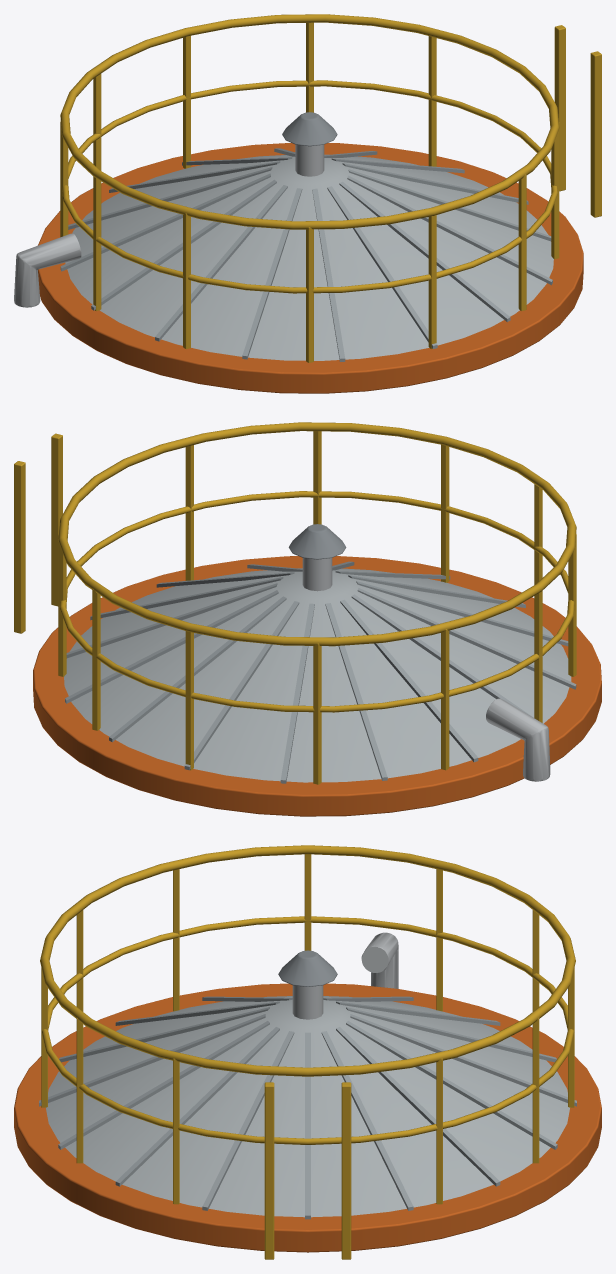
Rendered from fy_tankroof.glb.
The picture shows the model from 3 angles, top to bottom: view 1: azimuth 30°, elevation 25°; view 2: azimuth 150°, elevation 25°; view 3: azimuth 270°, elevation 25°; orthographic projection. The views are drawn at different scales.
Parts seen in each view (by area): view 1: cyl.001, cyl.002, ring.001, ring, pipe, block, block.013, cyl.003, bar.003, block.002, block.003, bar.008 (+21 smaller); view 2: cyl.001, cyl.002, ring.001, ring, pipe, block.013, block, cyl.003, bar.013, block.008, block.007, bar.009 (+21 smaller); view 3: cyl.001, cyl.002, ring.001, ring, block.013, block, pipe, cyl.003, bar.002, bar.014, bar.003, bar.013 (+21 smaller).
Boxes of the visible parts, <box> form: cyl.001: <box>65,154,553,360</box>; cyl.002: <box>38,143,583,393</box>; ring.001: <box>60,14,559,229</box>; ring: <box>62,80,557,293</box>; pipe: <box>14,233,81,307</box>; block: <box>590,51,601,217</box>; block.013: <box>554,25,565,191</box>; cyl.003: <box>282,112,337,146</box>; bar.003: <box>339,181,510,321</box>; block.002: <box>518,174,526,311</box>; block.003: <box>428,215,436,349</box>; bar.008: <box>91,179,276,310</box>; cyl.001: <box>64,568,571,782</box>; cyl.002: <box>33,556,601,816</box>; ring.001: <box>58,422,576,646</box>; ring: <box>59,491,574,712</box>; pipe: <box>486,698,550,781</box>; block.013: <box>14,461,25,633</box>; block: <box>51,433,62,606</box>; cyl.003: <box>288,524,346,559</box>; bar.013: <box>109,596,286,742</box>; block.008: <box>313,643,321,784</box>; block.007: <box>441,629,449,770</box>; bar.009: <box>340,599,478,762</box>; cyl.001: <box>46,996,569,1217</box>; cyl.002: <box>14,983,601,1252</box>; ring.001: <box>40,845,575,1076</box>; ring: <box>41,916,574,1144</box>; block.013: <box>341,1082,351,1259</box>; block: <box>264,1082,274,1259</box>; pipe: <box>361,932,398,988</box>; cyl.003: <box>278,950,337,986</box>; bar.002: <box>115,1027,279,1186</box>; bar.014: <box>336,1027,500,1186</box>; bar.003: <box>58,1021,269,1149</box>; bar.013: <box>346,1021,557,1149</box>.
Bounding box in the file's own units: 3.42 × 1.06 × 3.06.
